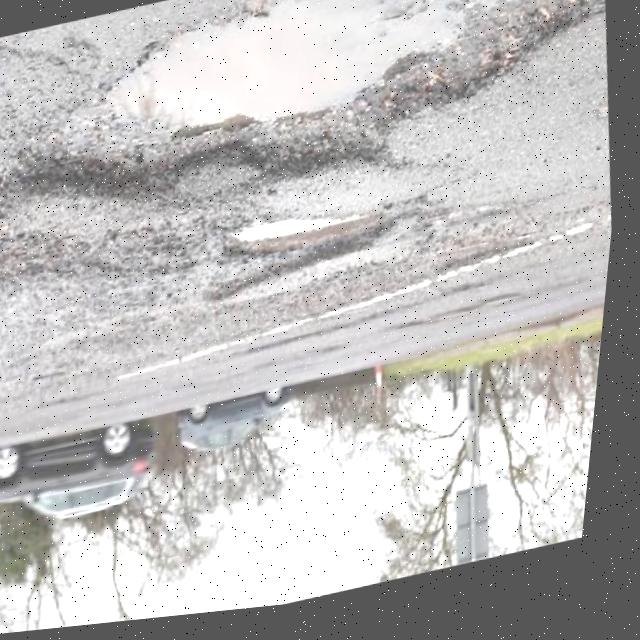Pothole: (0, 0, 624, 249), (204, 196, 409, 314), (0, 208, 74, 303), (398, 302, 527, 347), (444, 245, 540, 288)
